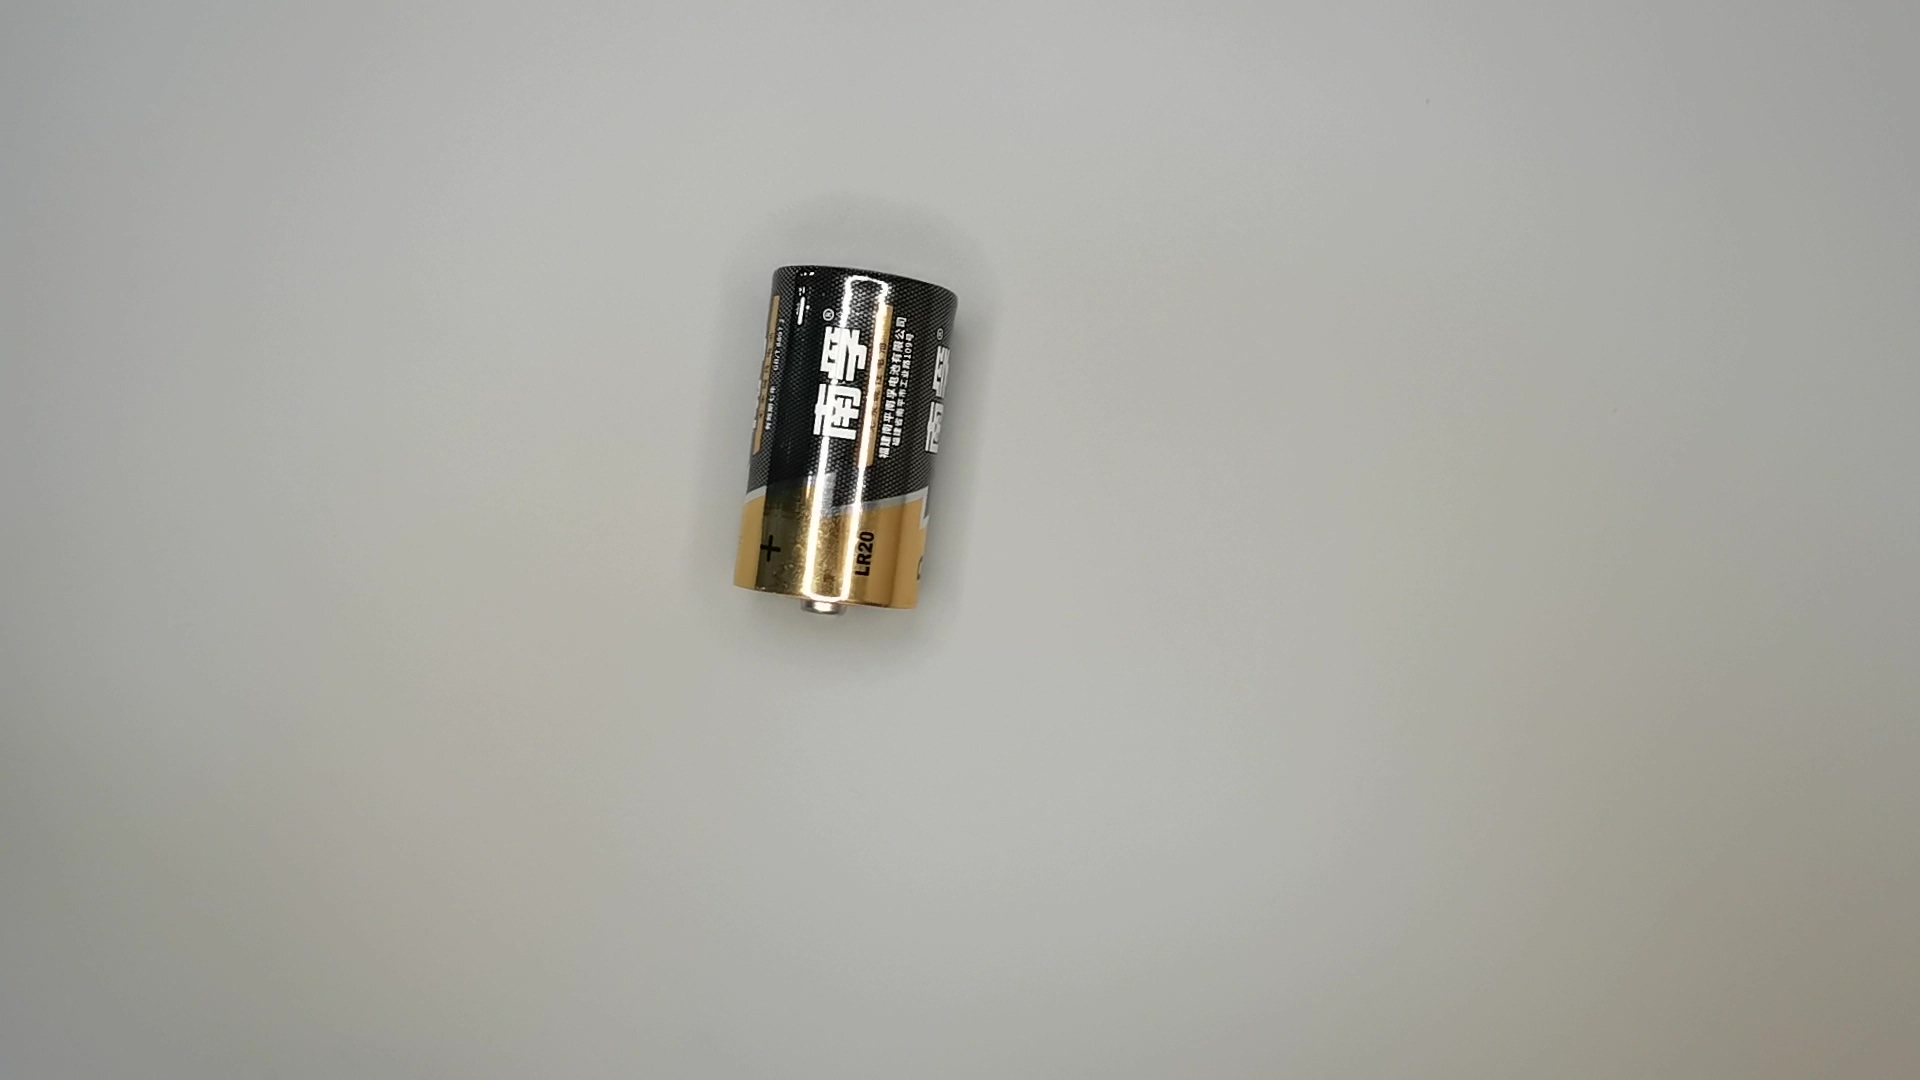battery: (728, 258, 967, 630)
